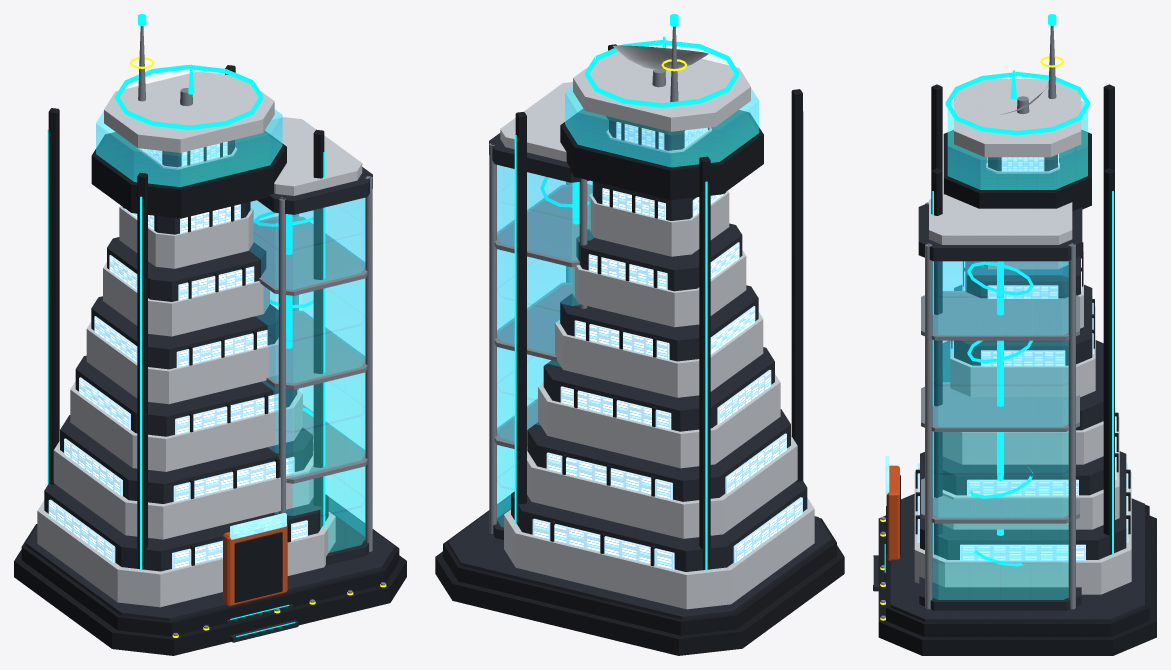
The model's file is bldg_11_r1_04.glb.
The picture shows the model from 3 angles, left to right: view 1: azimuth 30°, elevation 25°; view 2: azimuth 150°, elevation 25°; view 3: azimuth 270°, elevation 25°; orthographic projection. The views are drawn at different scales.
Parts seen in each view (by area): view 1: Bldg11_C04_aero_white, Bldg11_C04_gunmetal, Bldg11_C04_glass_cyan, Bldg11_C04_carbon_slate, Bldg11_C04_steel_machined, Bldg11_C04_window_lit, Bldg11_C04_led_cyan, Bldg11_C04_accent_orange, Bldg11_C04_marquee; view 2: Bldg11_C04_aero_white, Bldg11_C04_gunmetal, Bldg11_C04_carbon_slate, Bldg11_C04_glass_cyan, Bldg11_C04_window_lit, Bldg11_C04_steel_machined, Bldg11_C04_led_cyan; view 3: Bldg11_C04_glass_cyan, Bldg11_C04_aero_white, Bldg11_C04_carbon_slate, Bldg11_C04_gunmetal, Bldg11_C04_steel_machined, Bldg11_C04_window_lit, Bldg11_C04_led_cyan, Bldg11_C04_accent_orange.
Boxes of the visible parts, x1,y1,x2,y2 form: Bldg11_C04_aero_white: (37,71,362,607); Bldg11_C04_gunmetal: (14,65,406,655); Bldg11_C04_glass_cyan: (96,109,365,552); Bldg11_C04_carbon_slate: (26,140,394,642); Bldg11_C04_steel_machined: (138,26,385,635); Bldg11_C04_window_lit: (48,142,307,569); Bldg11_C04_led_cyan: (47,14,325,637); Bldg11_C04_accent_orange: (223,524,287,606); Bldg11_C04_marquee: (230,513,286,539); Bldg11_C04_aero_white: (500,45,814,609); Bldg11_C04_gunmetal: (435,44,844,655); Bldg11_C04_carbon_slate: (447,120,832,619); Bldg11_C04_glass_cyan: (497,86,759,527); Bldg11_C04_window_lit: (532,122,802,569); Bldg11_C04_steel_machined: (489,26,678,533); Bldg11_C04_led_cyan: (514,14,803,570); Bldg11_C04_glass_cyan: (933,101,1087,599); Bldg11_C04_aero_white: (914,79,1131,594); Bldg11_C04_carbon_slate: (873,154,1144,621); Bldg11_C04_gunmetal: (878,84,1156,655); Bldg11_C04_steel_machined: (881,26,1079,618); Bldg11_C04_window_lit: (917,154,1128,560); Bldg11_C04_led_cyan: (873,14,1113,584); Bldg11_C04_accent_orange: (887,465,899,560).
Bounding box in the file's own units: 12.5 × 22.72 × 10.71.
Materials: 10 (10 with a texture image).
